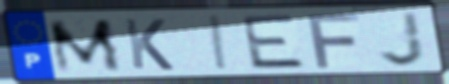E: (239, 13, 310, 71)
F: (304, 12, 362, 70)
I: (208, 14, 232, 72)
J: (377, 10, 429, 68)
K: (120, 17, 176, 72)
M: (45, 17, 127, 75)
